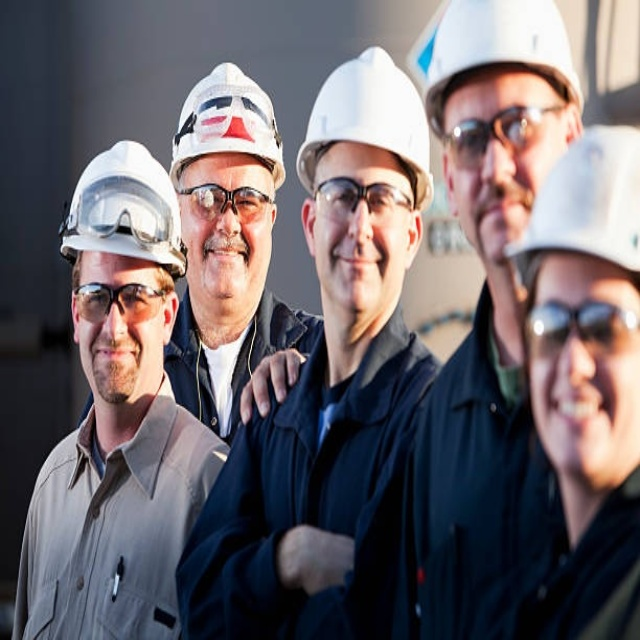Gafas: (518, 293, 636, 369), (440, 99, 559, 160), (311, 173, 415, 226), (72, 279, 165, 326), (180, 180, 275, 226)
Sin_guantes: (236, 344, 308, 424)
Sin_mascara: (547, 389, 610, 449), (328, 248, 386, 304), (472, 188, 531, 242), (89, 340, 140, 395), (201, 237, 248, 295)
